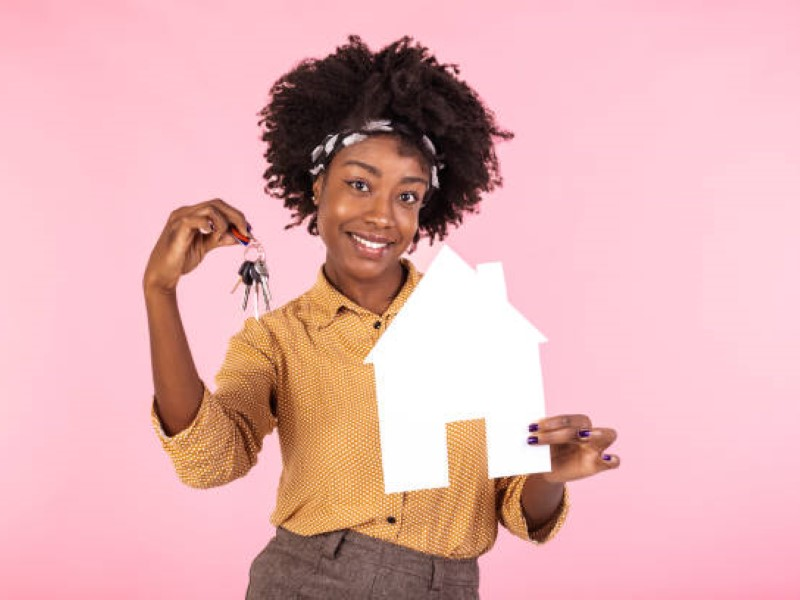key: (228, 255, 272, 322)
